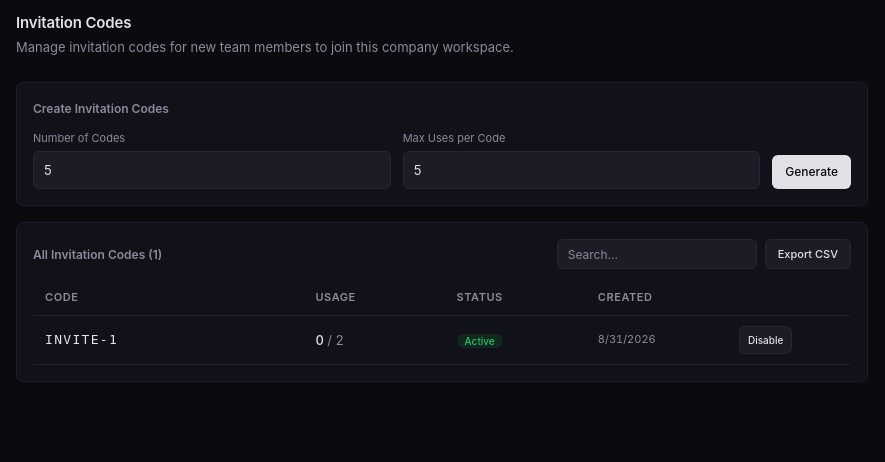
Test: InvitationCodes recovery › recovers from disable and export failures without an unhandled request
The width and height of the screenshot is (885, 462).
expect the text "INVITE-1" is shown: met, box [45, 332, 118, 346]
Click the button "Disable": [766, 340] box [739, 326, 792, 354]
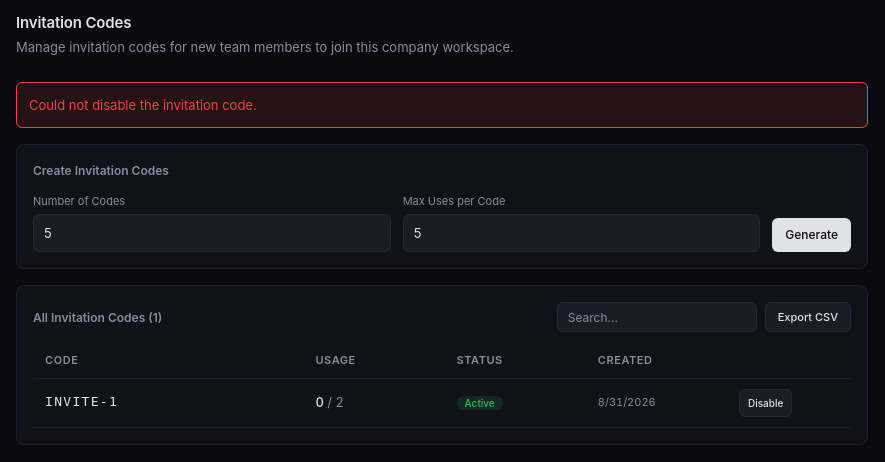
expect the button "Disable" is enabled: met, box [739, 389, 792, 417]
expect the message reads "Could not disable the invitation code.": met, box [29, 96, 257, 112]
Click the button "Export CSV": [808, 317] box [765, 302, 851, 332]
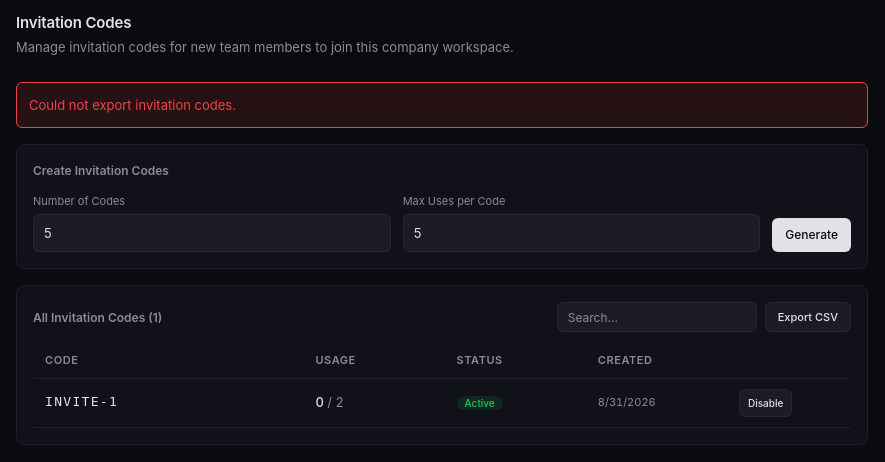
expect the message reads "Could not export invitation codes.": met, box [29, 96, 236, 112]
